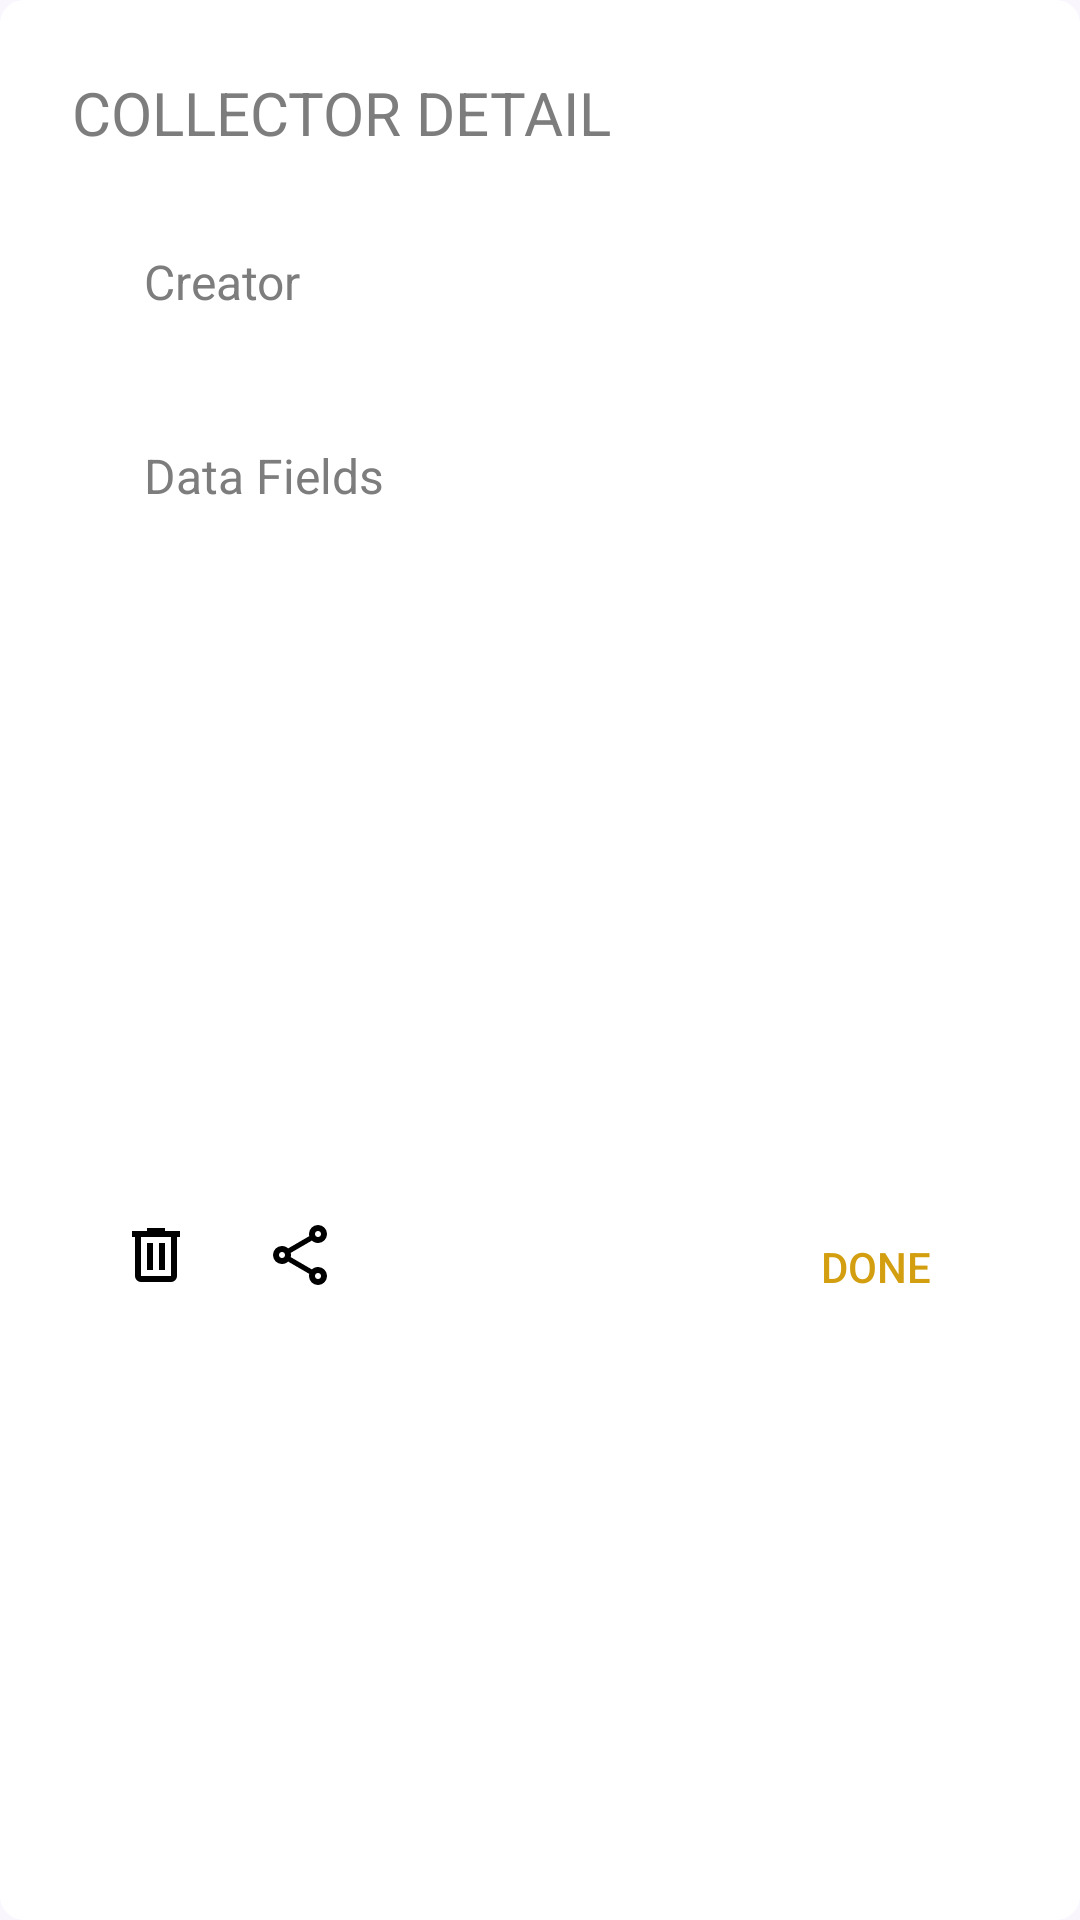

Point at icon controls on the screen. Image size 1080px x 1920px, points as (x=x, y=y).
delete: (x=156, y=1255)
share: (x=300, y=1255)
